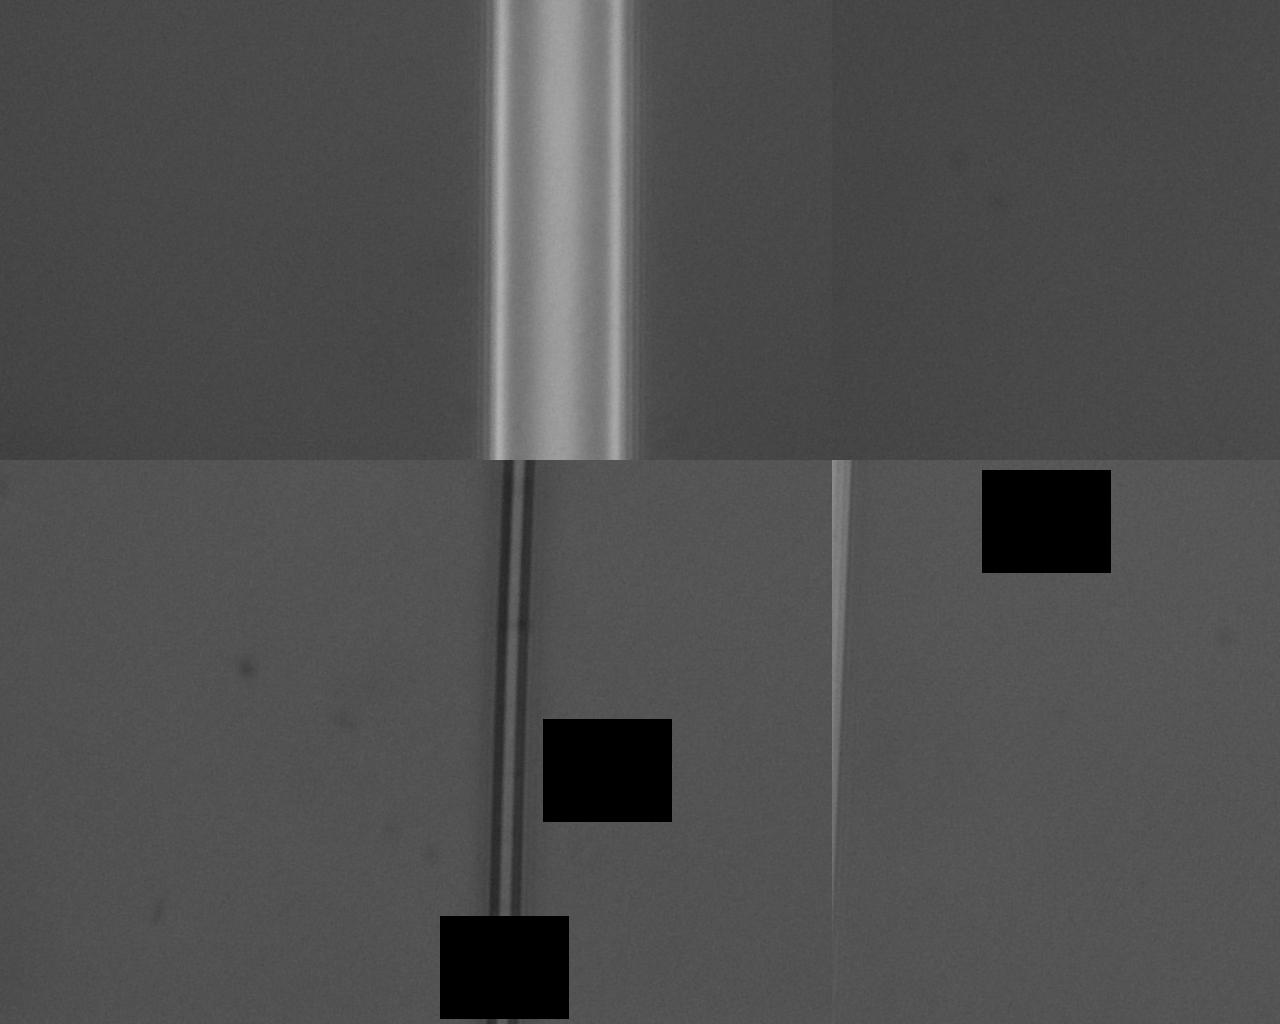fiber: (0, 88, 652, 567), (1071, 0, 1212, 583), (699, 583, 822, 1024), (290, 583, 358, 1024)
